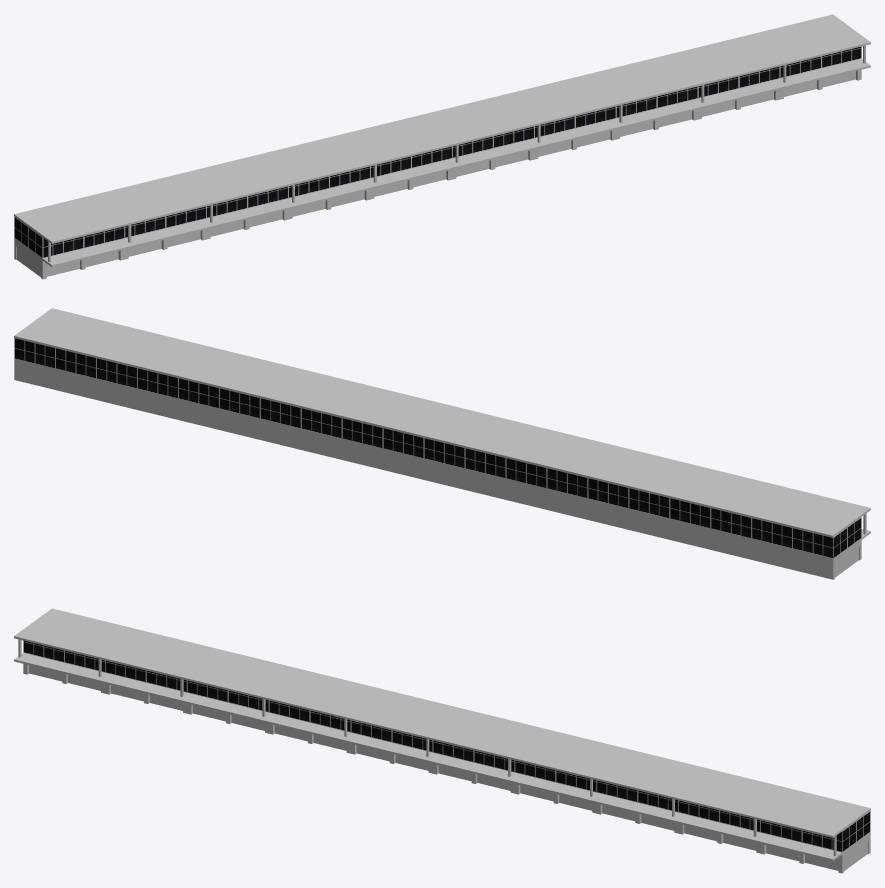
File: Building-Grid-08.fbx
3 views of the same model, one above another, from view 1: azimuth 30°, elevation 25°; view 2: azimuth 150°, elevation 25°; view 3: azimuth 330°, elevation 25° (orthographic).
Parts seen in each view (by area): view 1: Building-Grid-08; view 2: Building-Grid-08; view 3: Building-Grid-08.
Part boxes in pixels (left/top/right/bottom): Building-Grid-08: left=14, top=14, right=870, bottom=279; Building-Grid-08: left=14, top=308, right=870, bottom=579; Building-Grid-08: left=14, top=608, right=870, bottom=873.
Size of the model in its own units: 20000 by 1034 by 1607.
